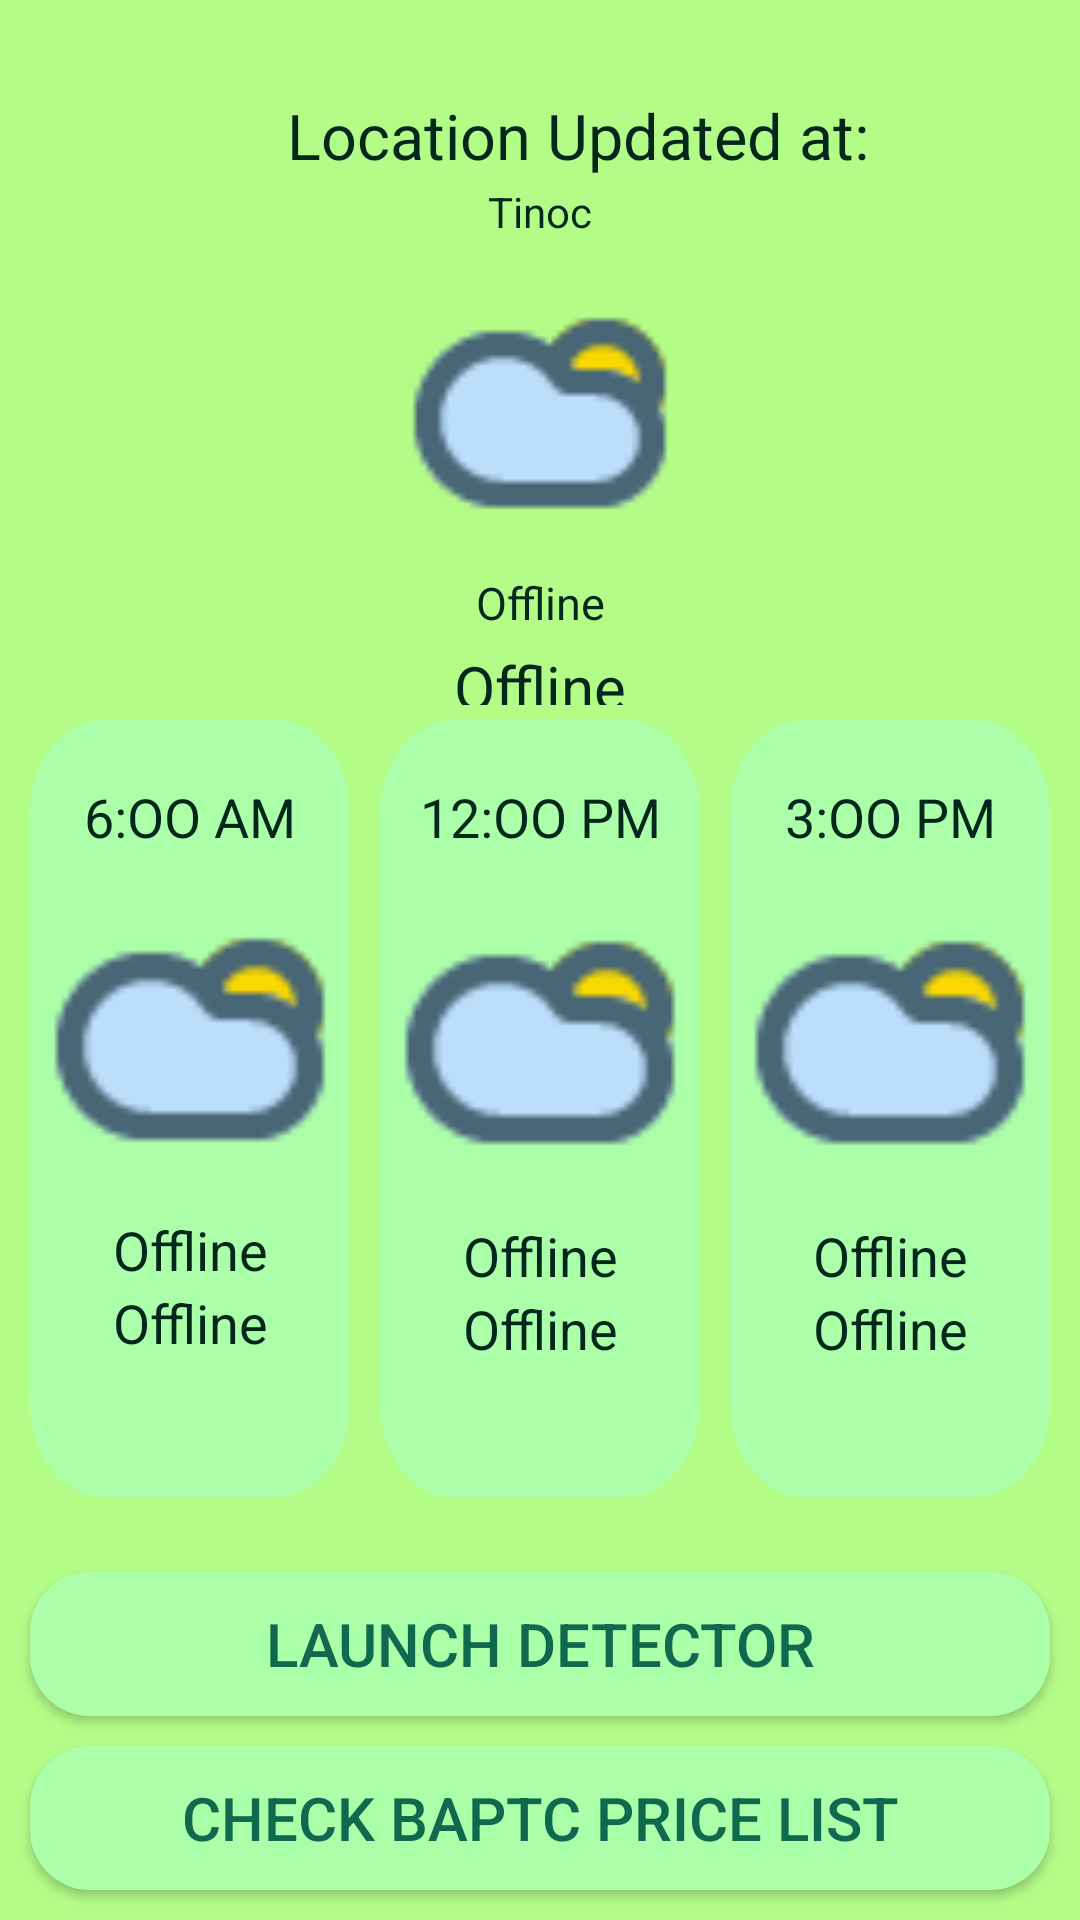

Named icons in this screenshot (1080px×1920px) and their bounding boxes, bbox=(x1, y1, x2, y2):
partly sunny: bbox=(413, 317, 667, 509), bbox=(54, 937, 326, 1142), bbox=(404, 940, 676, 1145), bbox=(754, 940, 1026, 1145)
